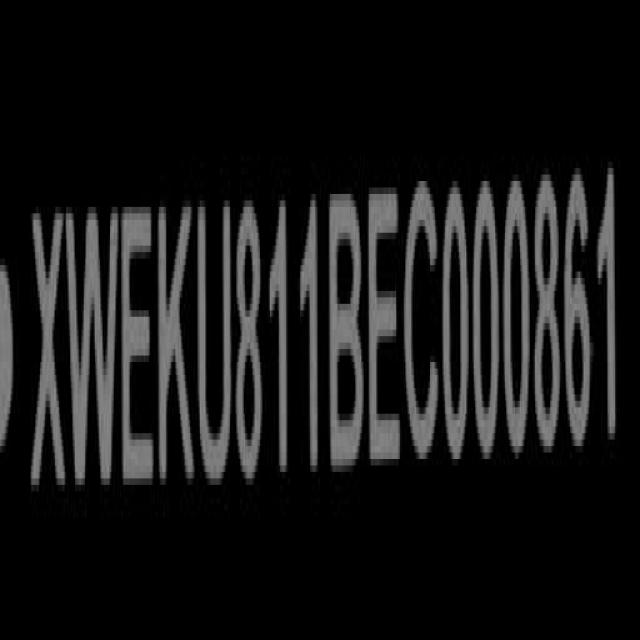0: (441, 181, 470, 469), (504, 175, 531, 462), (474, 182, 501, 466)
1: (301, 194, 324, 491), (269, 197, 292, 490), (600, 157, 622, 454)
6: (565, 170, 595, 454)
8: (234, 200, 263, 492), (536, 174, 564, 458)
B: (329, 185, 366, 485)
C: (405, 180, 440, 472)
E: (122, 204, 159, 499), (369, 184, 402, 481)
K: (158, 199, 196, 496)
U: (199, 194, 236, 495)
W: (69, 199, 120, 501)
X: (33, 204, 67, 505)
